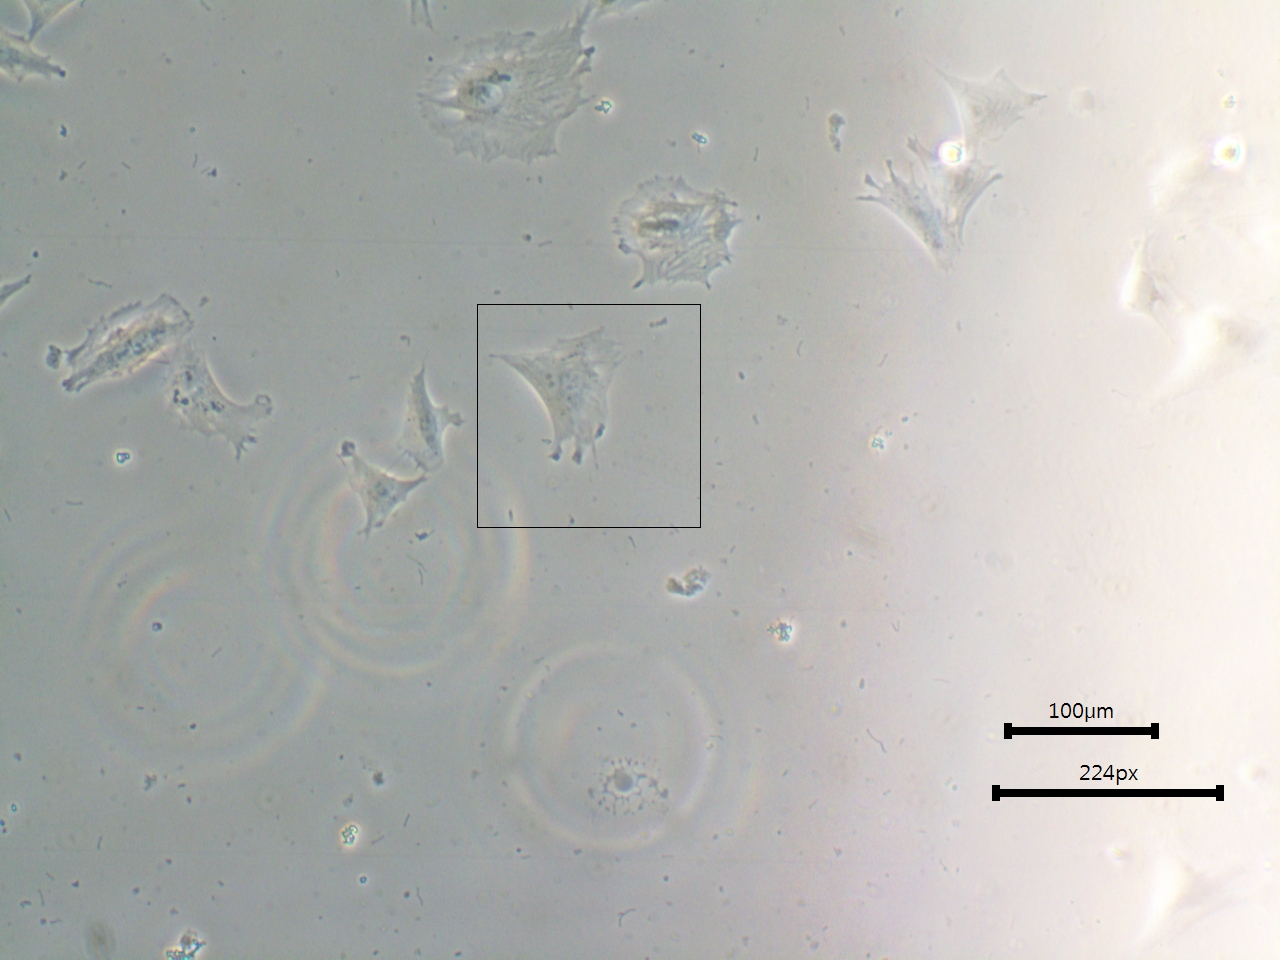medium-spread: (162, 345, 276, 467), (933, 61, 1051, 158)
